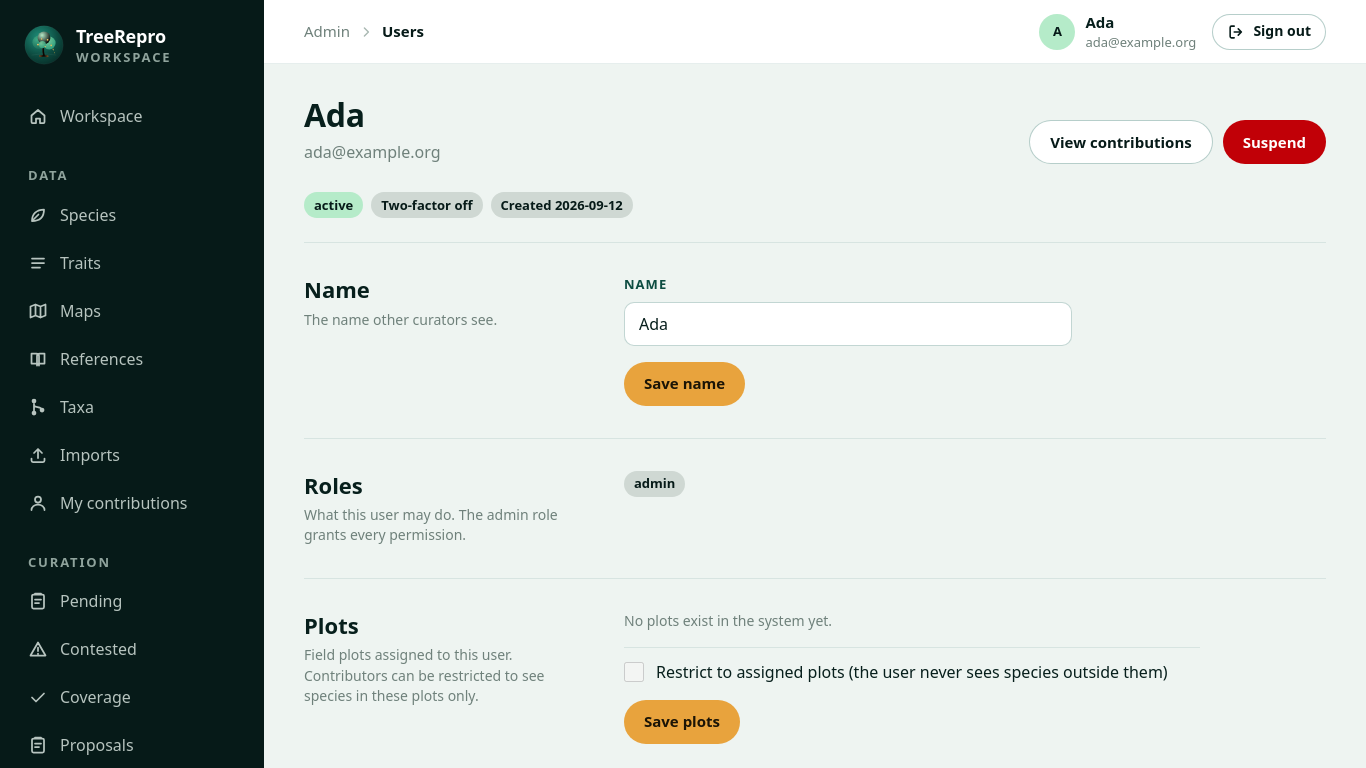
Test: RFC-13 R2, RFC-50 R4 UserPage › RFC-50 R6-R7 suspends after confirming (refreshing sessions), then offers Reactivate; ROLE_LAST_ADMIN keeps the dialog open
Check: the heading "Ada" is shown, box [304,93,365,136]
Click the button "Suspend" at [1274, 142], box [1223,120,1326,164]
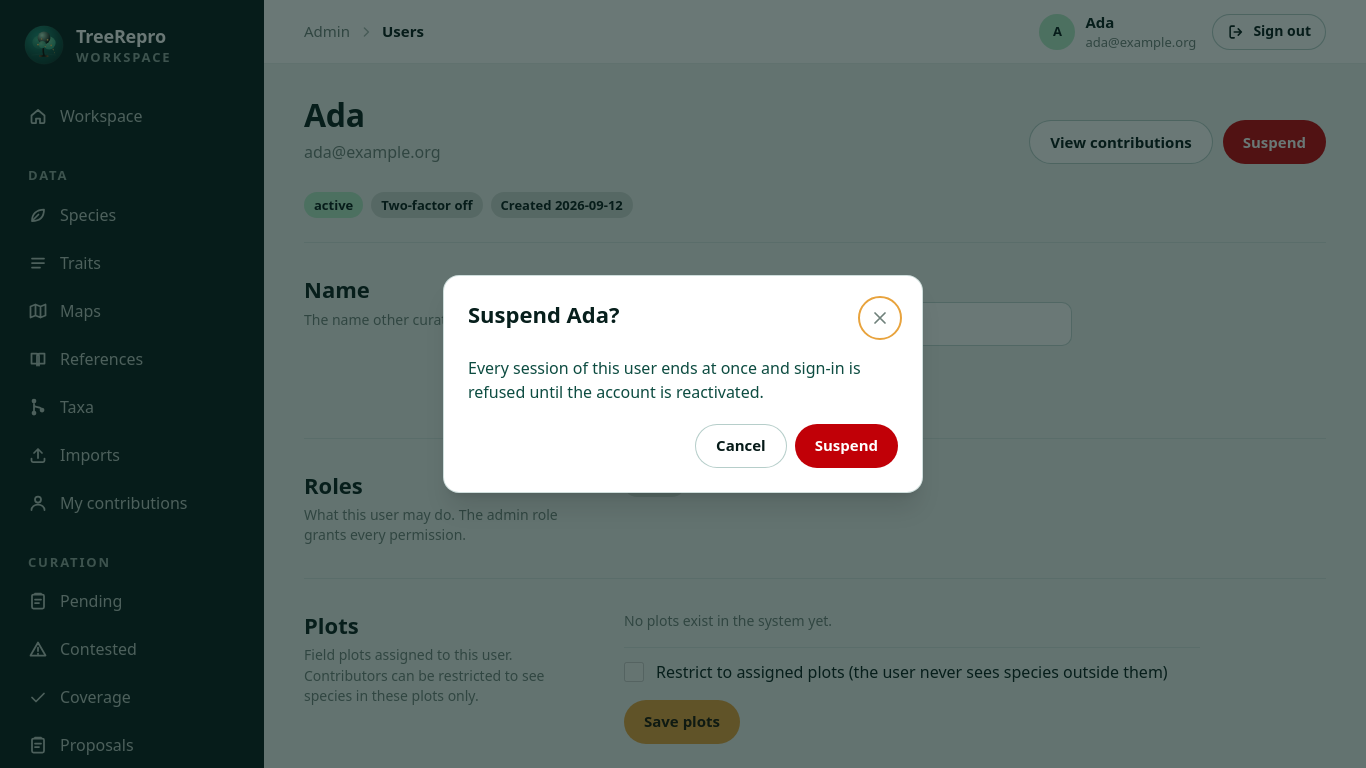
Click the button "Suspend" at [846, 446], box [795,424,898,468]
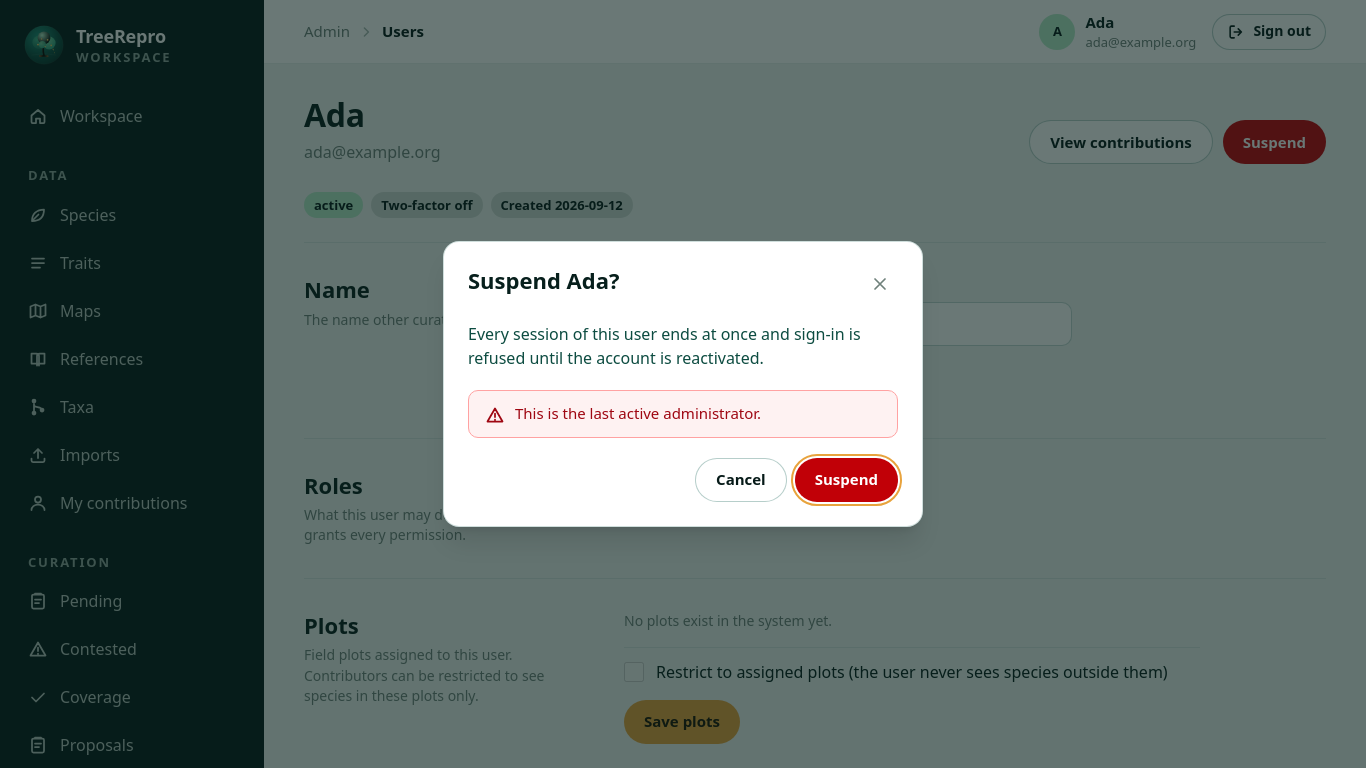
Check: the dialog "Suspend Ada?" is shown, box [443,241,923,527]
Check: the message reads "This is the last active administrator.", box [515,403,761,423]
Click the button "Suspend" at [846, 480], box [795,458,898,502]
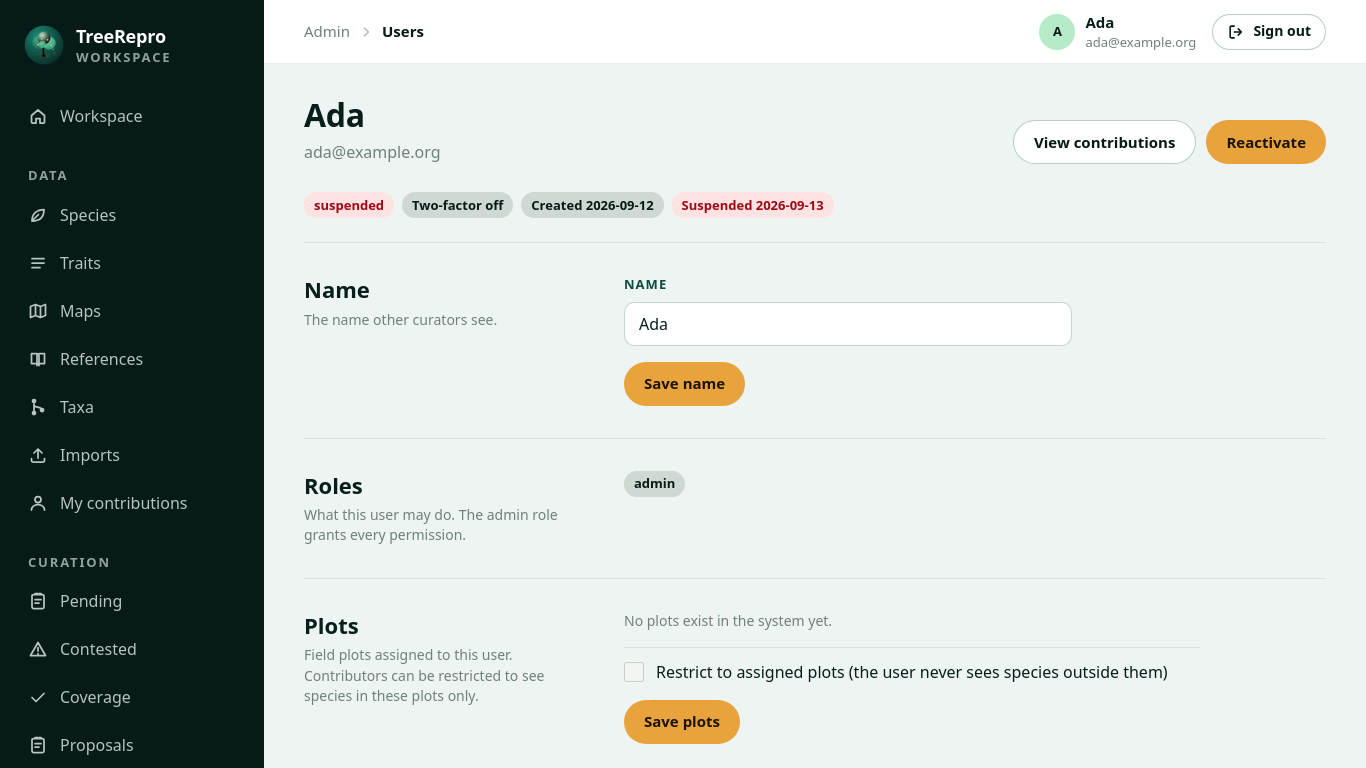
Check: the text "suspended" is shown, box [304,192,394,218]
Check: the dialog is gone
Click the button "Reactivate" at [1266, 142], box [1206,120,1326,164]
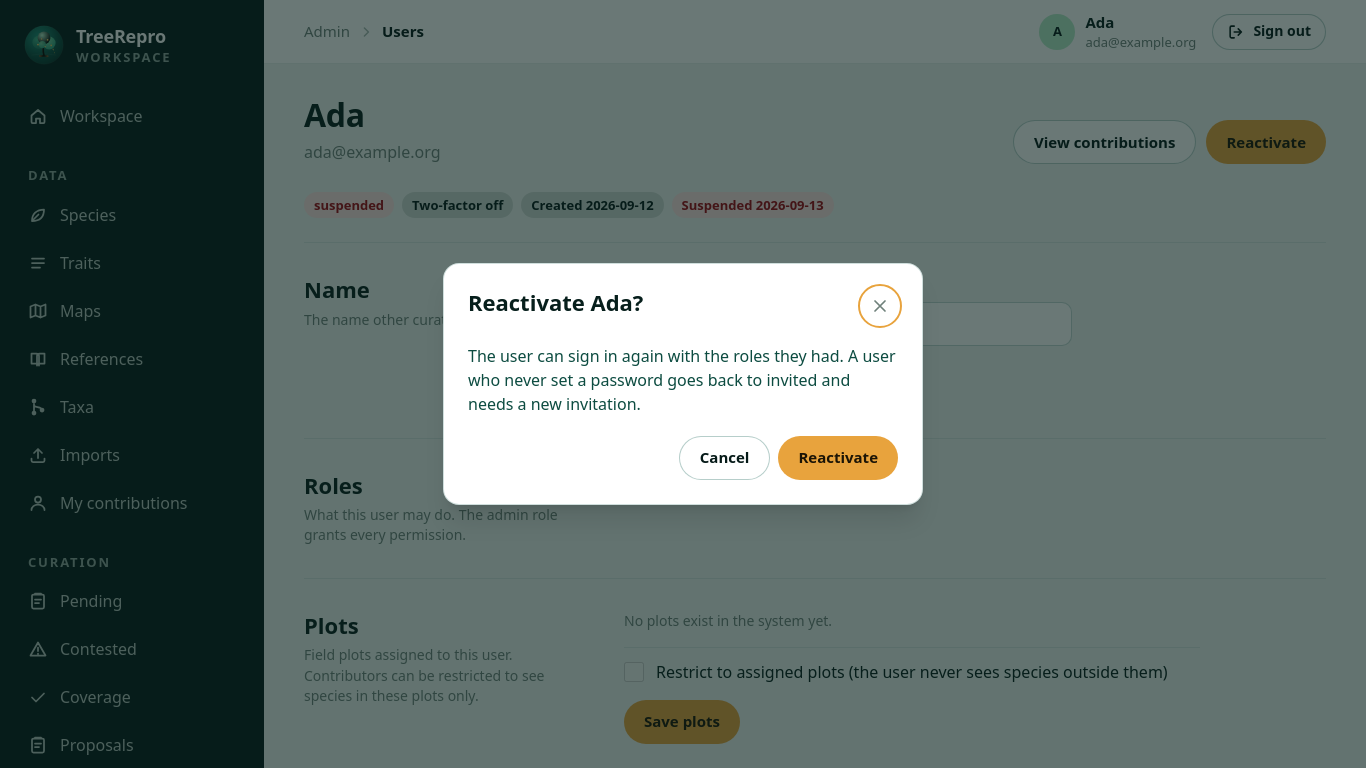
Click the button "Reactivate" at [838, 458], box [778,436,898,480]
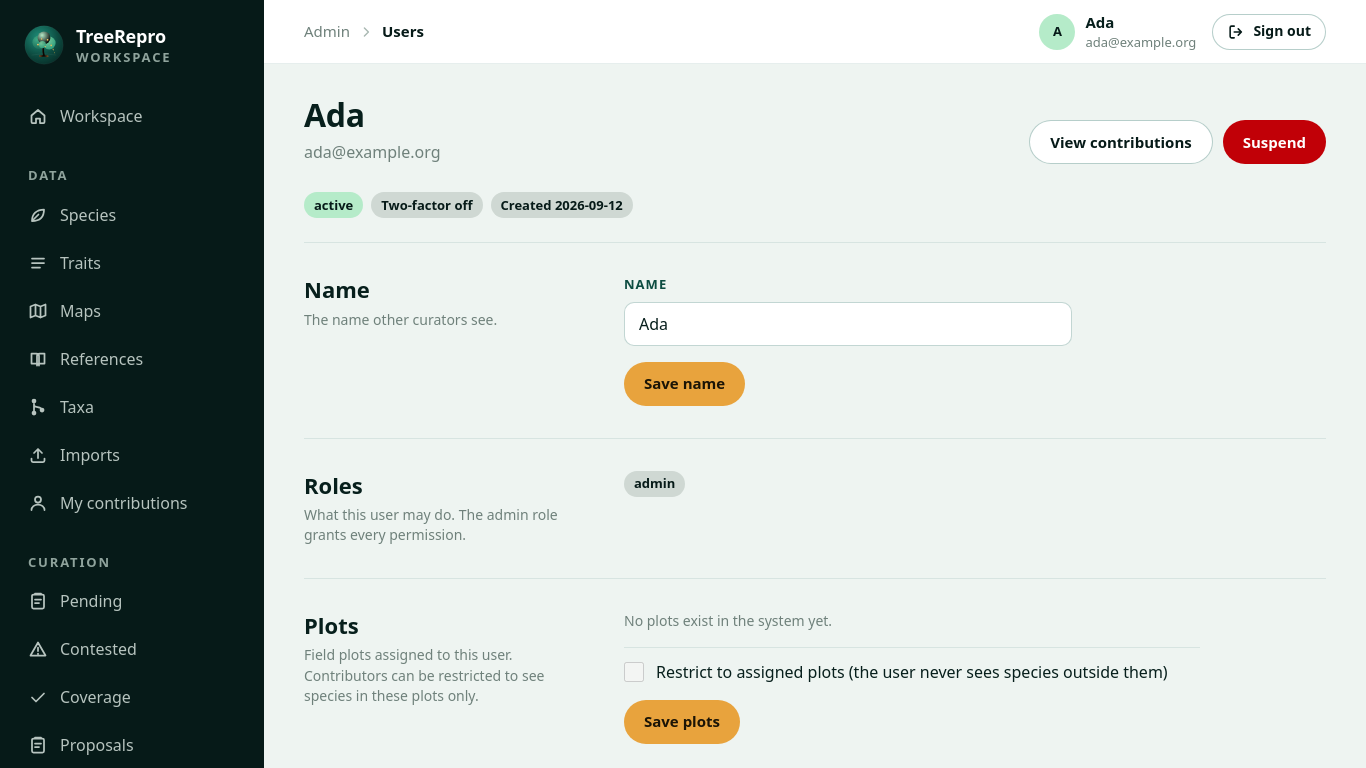
Check: the text "active" is shown, box [304,192,363,218]
